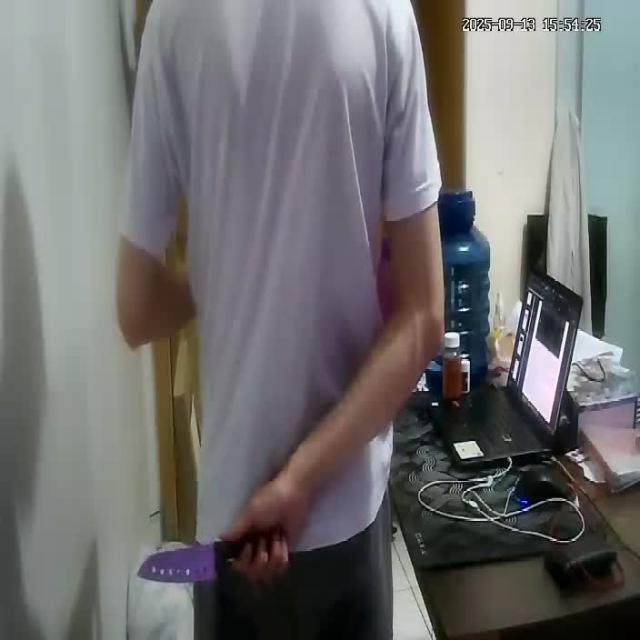senjata_tajam: (134, 531, 226, 590)
